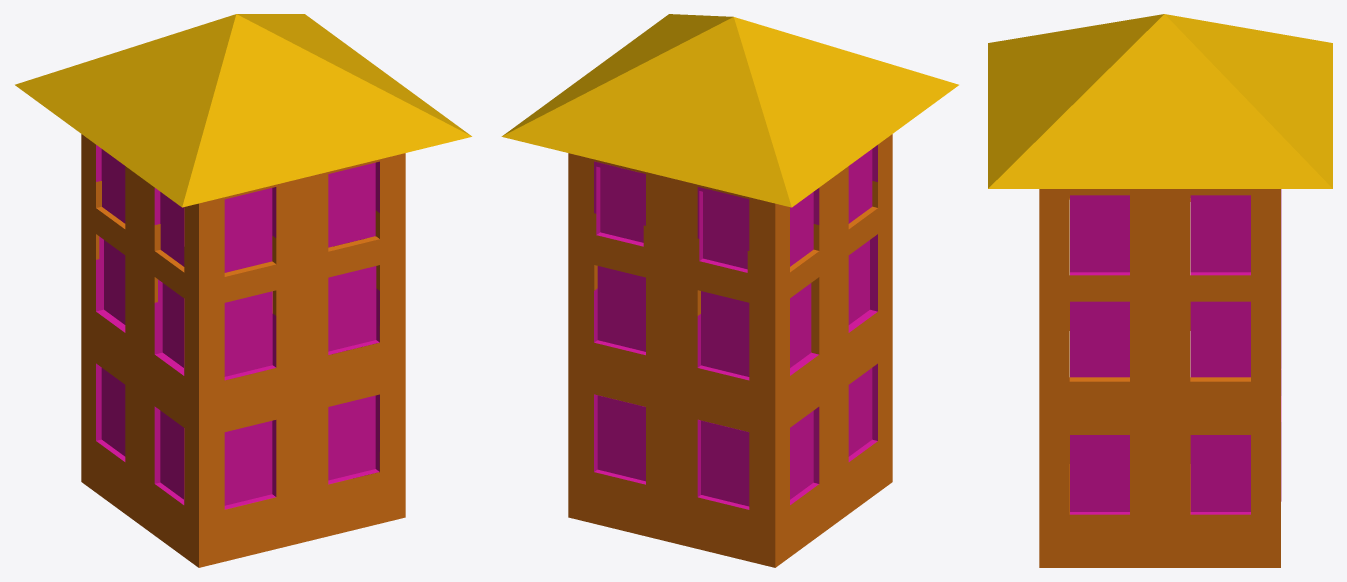
Rendered from uhhidkanytmore.glb.
The picture shows the model from 3 angles, left to right: view 1: azimuth 30°, elevation 25°; view 2: azimuth 150°, elevation 25°; view 3: azimuth 270°, elevation 25°; orthographic projection. The views are drawn at different scales.
Parts seen in each view (by area): view 1: Cube, Cube.001, Cube.002; view 2: Cube, Cube.001, Cube.002; view 3: Cube, Cube.001, Cube.002.
Part boxes in pixels (x1,y1,x2,y2): Cube: [81, 134, 405, 567]; Cube.001: [15, 14, 471, 207]; Cube.002: [96, 145, 379, 509]; Cube: [568, 134, 892, 567]; Cube.001: [501, 14, 958, 207]; Cube.002: [594, 145, 877, 509]; Cube: [1039, 189, 1280, 567]; Cube.001: [988, 14, 1332, 188]; Cube.002: [1070, 189, 1281, 514].
Bounding box in the file's own units: 10.05 × 16.06 × 10.05.
